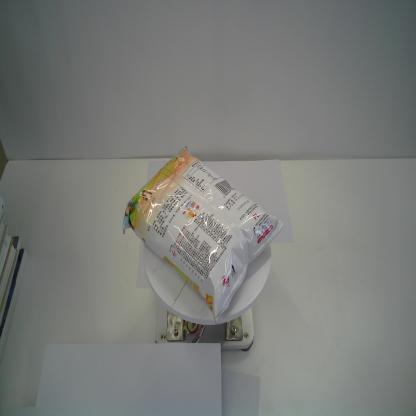Puffed Food: (120, 144, 286, 326)
